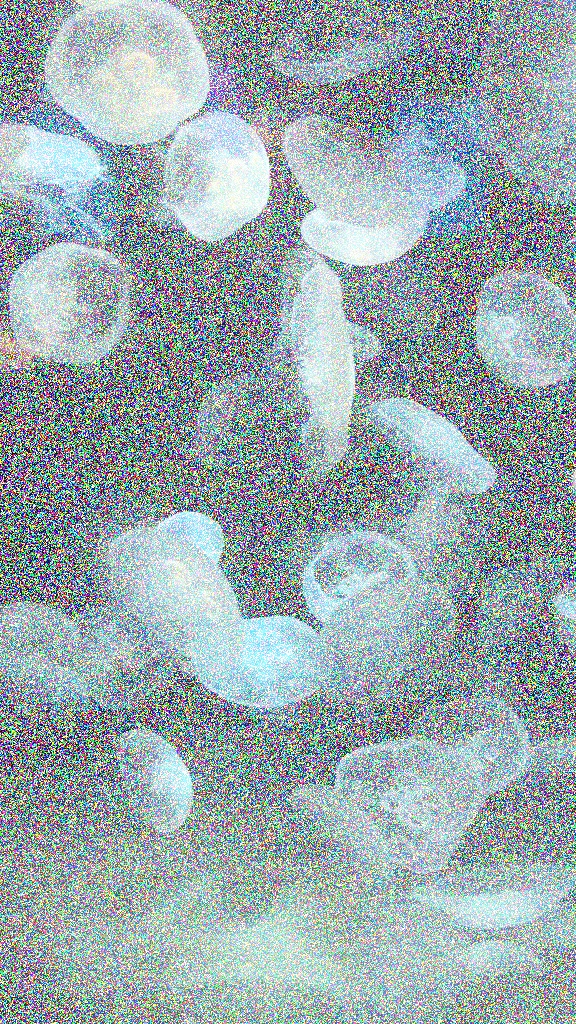jellyfish: (46, 2, 216, 144), (286, 112, 472, 228), (105, 523, 248, 673), (336, 743, 482, 873), (483, 6, 575, 200), (7, 234, 135, 372), (314, 576, 452, 700), (278, 260, 356, 478), (16, 868, 144, 1000), (51, 589, 181, 711), (370, 396, 488, 530), (159, 111, 271, 243), (200, 608, 332, 716), (287, 776, 403, 896), (349, 906, 464, 1020), (470, 268, 574, 392), (271, 2, 411, 88), (411, 692, 529, 792), (413, 856, 569, 928), (2, 107, 106, 199), (114, 728, 198, 840), (472, 551, 560, 657), (302, 528, 410, 614), (336, 252, 442, 338), (0, 624, 96, 716), (189, 363, 266, 469), (296, 206, 428, 266), (0, 593, 79, 655), (457, 942, 545, 984), (175, 742, 245, 790), (336, 320, 380, 360), (559, 578, 575, 648)
